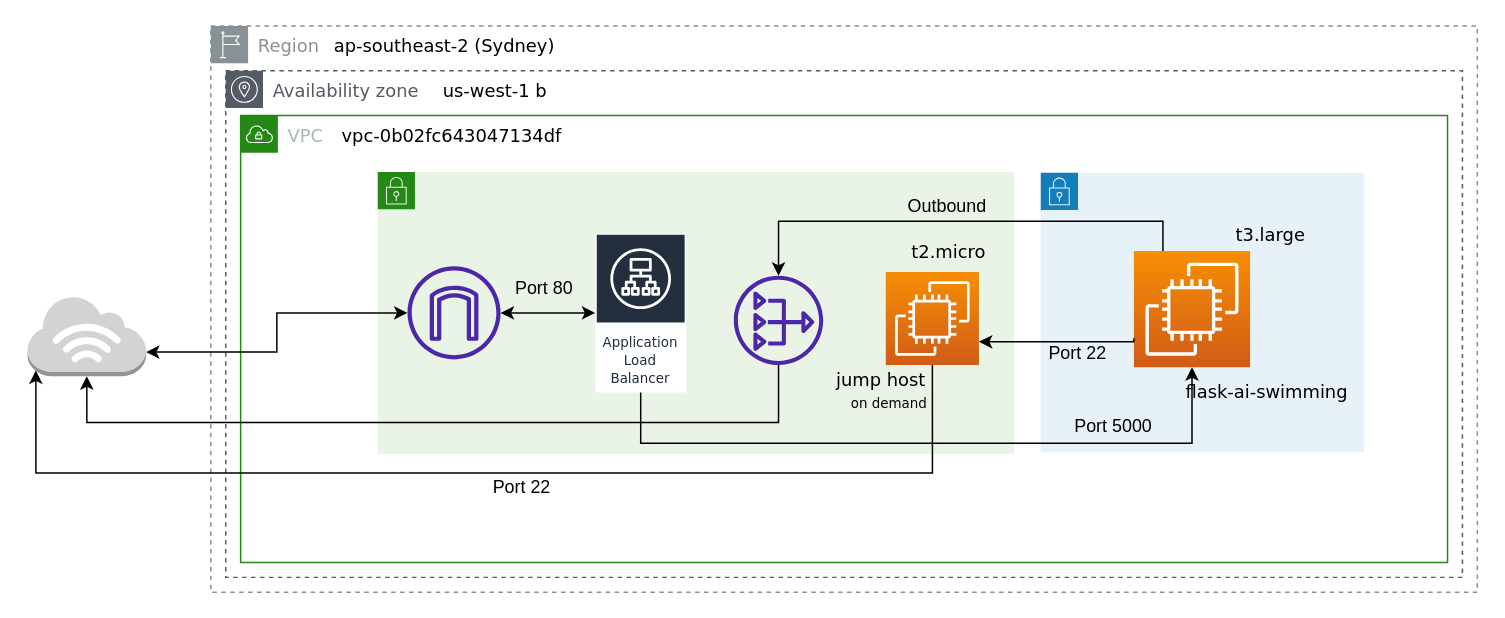
The diagram is 1505 pixels wide and 618 high, and some of its shapes have lost their labels. Here are the shapes that lost their labels. From the top down, the box of each, then its label:
(376, 171, 1014, 454): Public subnet
(1039, 171, 1364, 452): Private subnet
